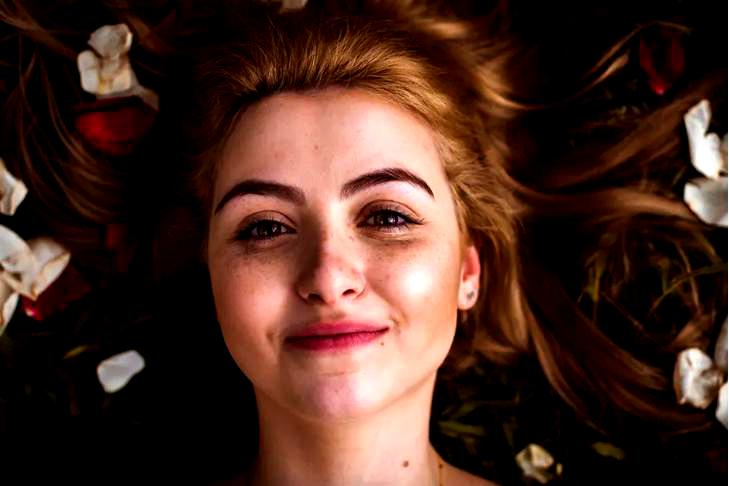face: (208, 92, 454, 412)
